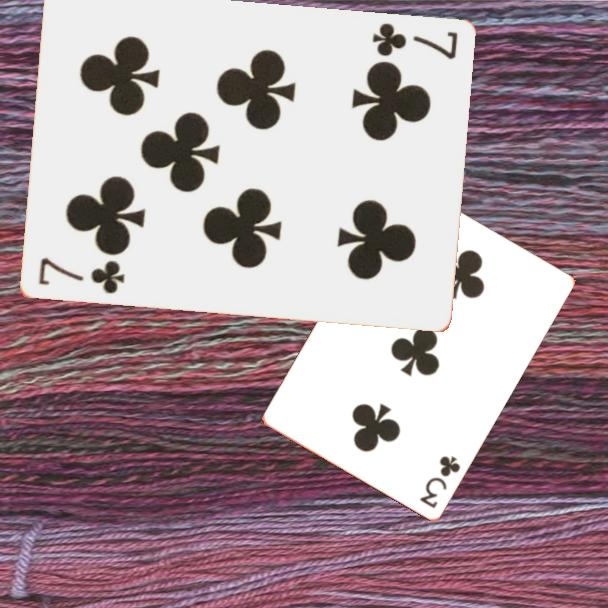c03: (416, 452, 463, 511)
c07: (34, 254, 127, 297), (368, 20, 460, 63)
